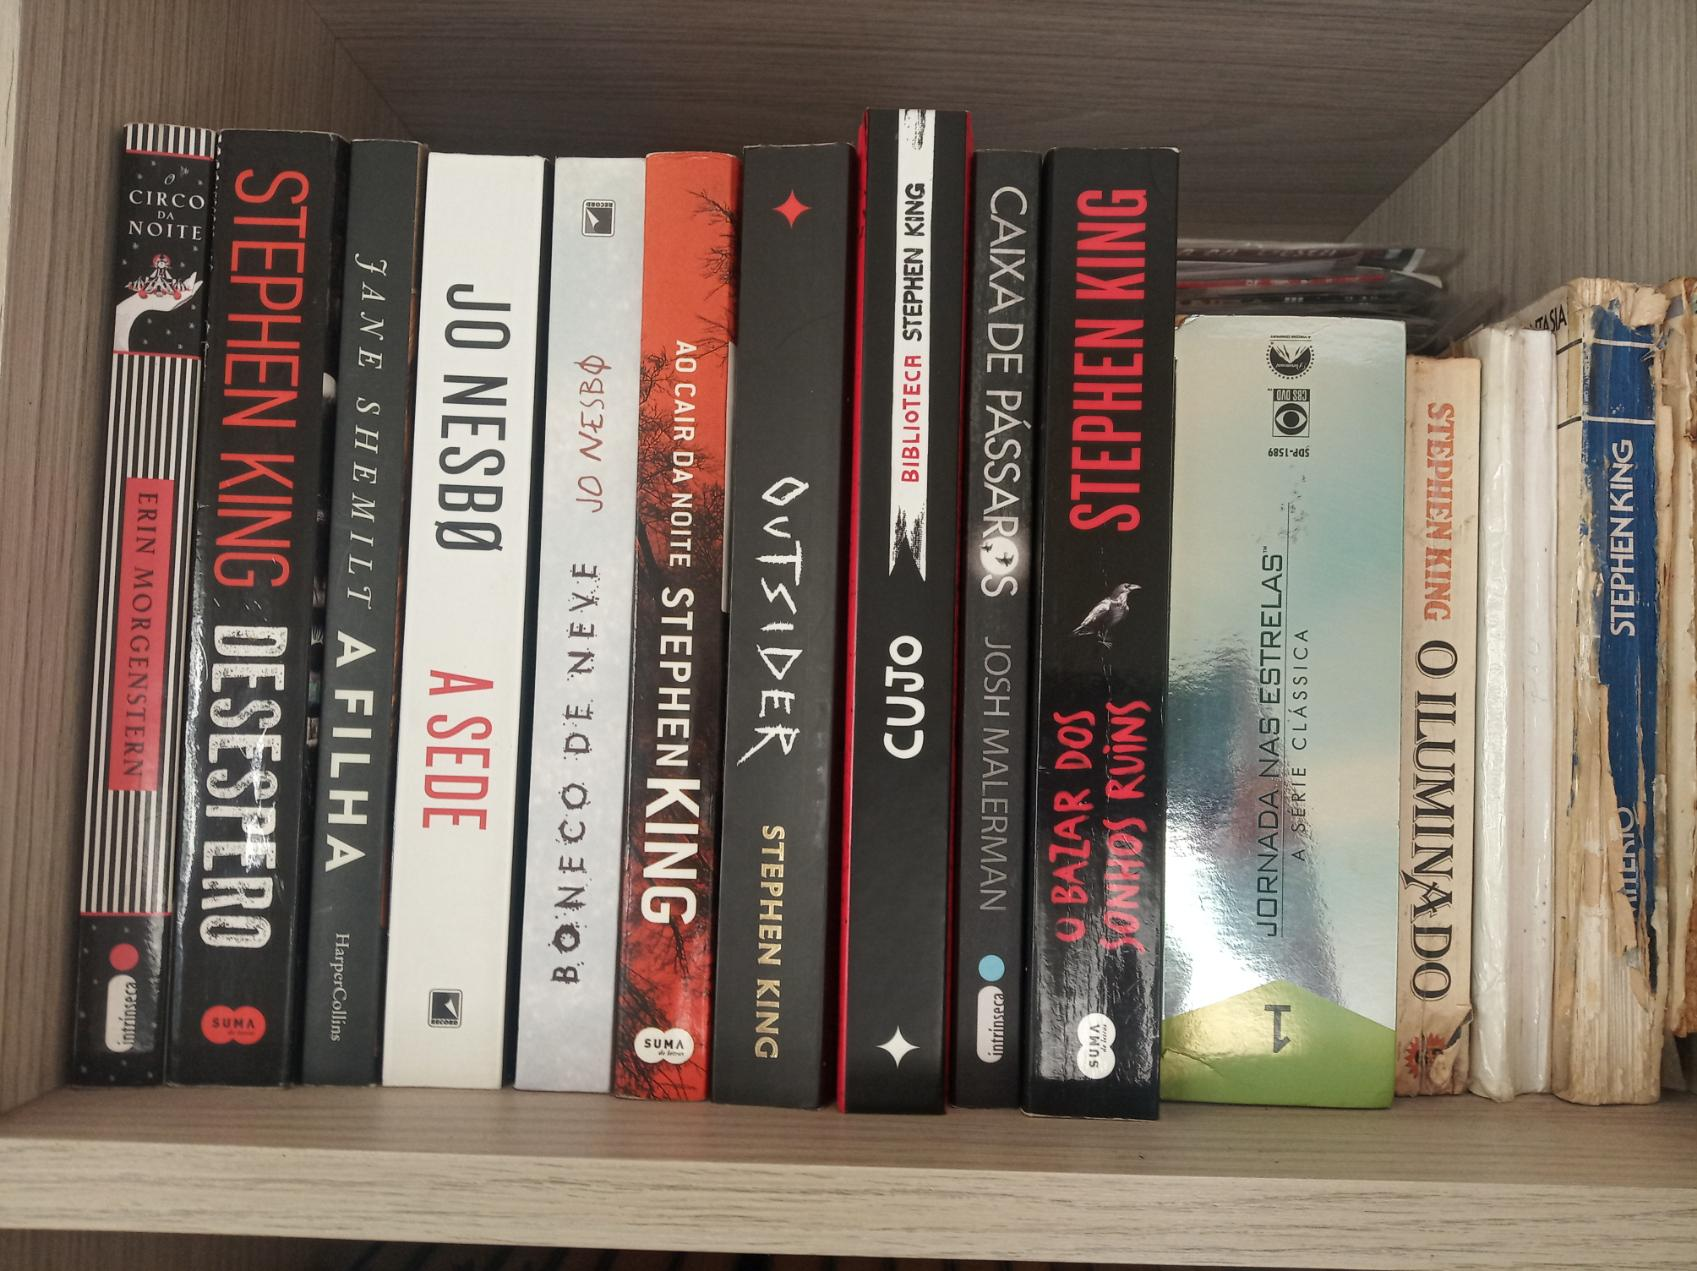book: (1178, 319, 1387, 1101), (1047, 160, 1147, 1097), (859, 109, 951, 1108), (750, 150, 848, 1091), (95, 125, 180, 1061), (441, 140, 525, 1076), (649, 160, 712, 1096), (1578, 292, 1649, 1096), (964, 139, 1023, 1093), (546, 168, 605, 1081), (1409, 346, 1473, 1092), (1495, 340, 1559, 1085)
